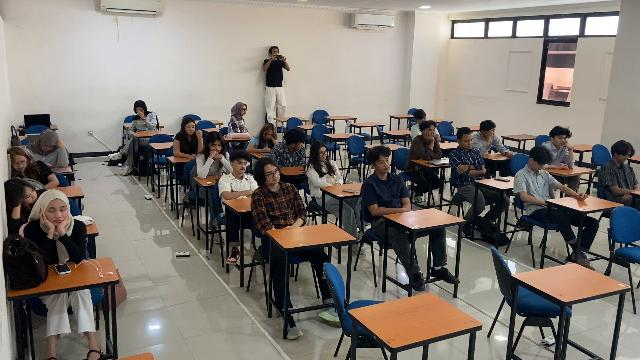bosan: (47, 204, 68, 224), (22, 187, 37, 204), (265, 167, 280, 184), (376, 156, 391, 173), (618, 147, 632, 162), (14, 155, 27, 170), (235, 159, 247, 173), (211, 139, 222, 153), (462, 136, 473, 149), (536, 160, 547, 172), (556, 134, 567, 146), (426, 125, 436, 138), (185, 122, 195, 134), (319, 147, 327, 161), (296, 139, 304, 152), (43, 144, 54, 153), (265, 130, 274, 141)
